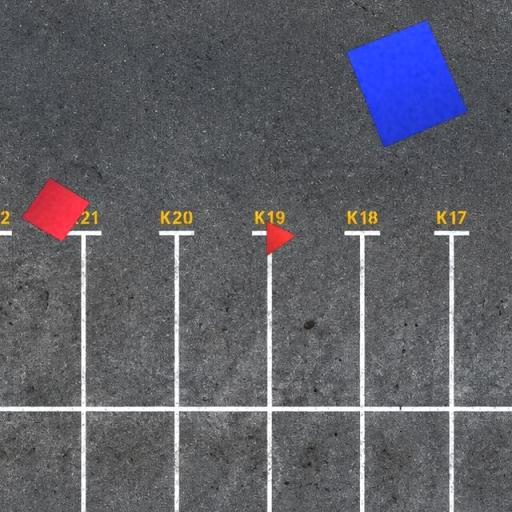BLUE_SQUARE: (346, 19, 468, 148)
RED_SQUARE: (21, 177, 91, 242)
